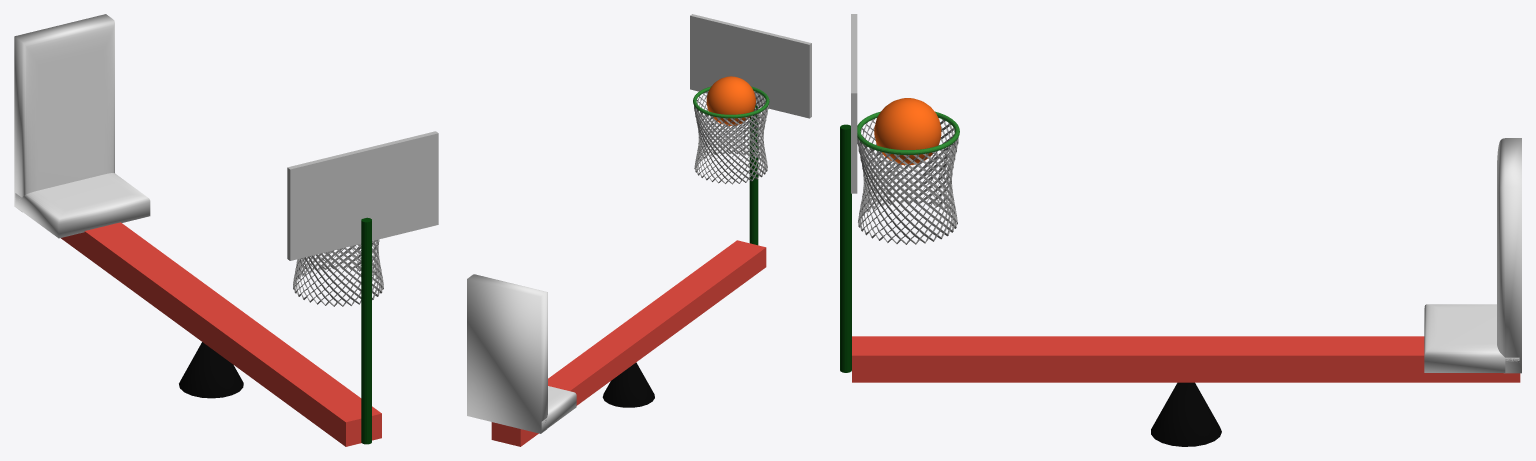
File: asiento rotatorio ajustado.fbx
The picture shows the model from 3 angles, left to right: view 1: azimuth 30°, elevation 25°; view 2: azimuth 150°, elevation 25°; view 3: azimuth 270°, elevation 25°; orthographic projection. The views are drawn at different scales.
Parts seen in each view (by area): view 1: Soporte Basket.001, Cojin.006, Tablero basket (pendiente de texturizar).001, Cojin.005, Red basket.001, Pole Baket.001, Base basket.001; view 2: Cojin.006, Soporte Basket.001, Tablero basket (pendiente de texturizar).001, Red basket.001, Pelota basket.001, Base basket.001, Pole Baket.001, Cojin.005, Aro basket.001; view 3: Soporte Basket.001, Red basket.001, Cojin.006, Cojin.005, Pelota basket.001, Base basket.001, Pole Baket.001, Tablero basket (pendiente de texturizar).001, Aro basket.001.
Part boxes in pixels (x1,y1,x2,y2): Soporte Basket.001: (61,222,381,446); Cojin.006: (14,14,114,212); Tablero basket (pendiente de texturizar).001: (287,131,438,260); Cojin.005: (15,173,150,238); Red basket.001: (293,239,383,306); Pole Baket.001: (361,217,371,444); Base basket.001: (179,342,243,398); Cojin.006: (467,274,547,433); Soporte Basket.001: (491,240,766,446); Tablero basket (pendiente de texturizar).001: (690,14,811,118); Red basket.001: (694,91,768,184); Pelota basket.001: (706,76,755,125); Base basket.001: (602,362,654,407); Pole Baket.001: (749,105,758,245); Cojin.005: (541,386,576,432); Aro basket.001: (693,86,769,118); Soporte Basket.001: (852,336,1520,382); Red basket.001: (857,119,958,244); Cojin.006: (1497,138,1521,373); Cojin.005: (1424,304,1519,372); Pelota basket.001: (874,98,941,165); Base basket.001: (1151,382,1221,446); Pole Baket.001: (840,124,851,372); Tablero basket (pendiente de texturizar).001: (851,14,857,193); Aro basket.001: (857,111,959,154).
Bounding box in the file's own units: 168 × 611 × 374.
